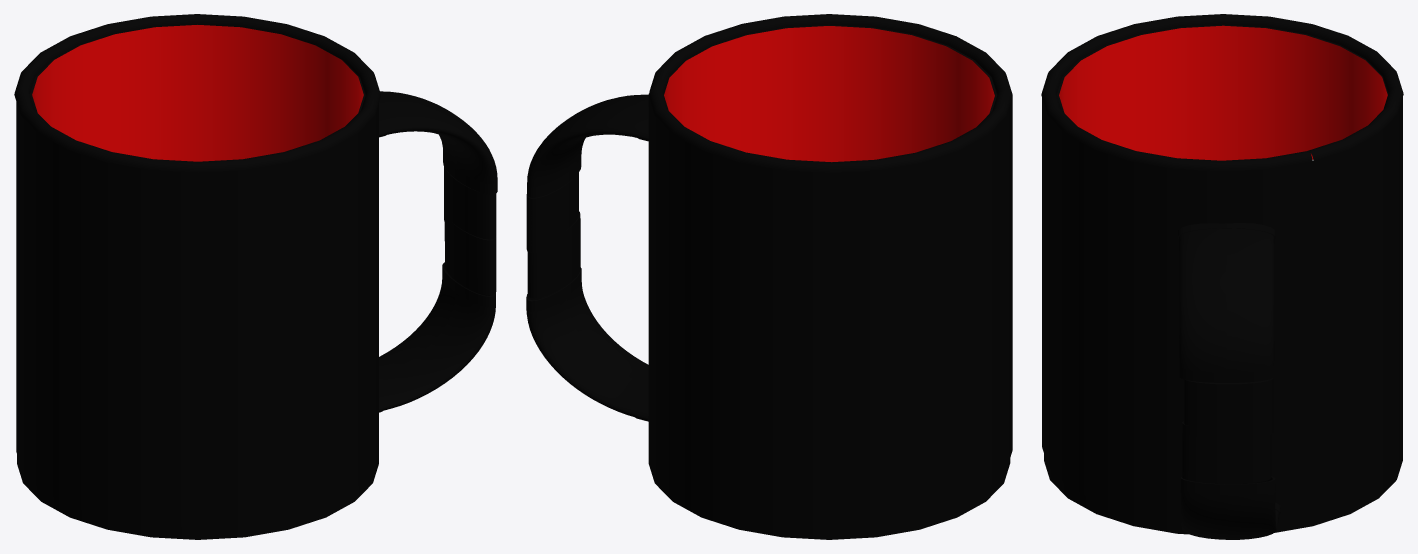
Rendered from mug_09_origin_gt_4.dae.
3 views of the same model, side by side, from view 1: azimuth 30°, elevation 25°; view 2: azimuth 150°, elevation 25°; view 3: azimuth 270°, elevation 25° (orthographic).
Visible parts, largest first — view 1: SketchUp (×2), ASTMF758_90_8_X_36R (×4), Handle_section_1 (×2); view 2: SketchUp (×2), ASTMF758_90_8_X_36R (×4), Handle_section_1 (×2); view 3: SketchUp (×2), ASTMF758_90_8_X_36R (×8), Handle_section_1 (×2).
Part boxes in pixels (x1,y1,x2,y2): SketchUp (×2): [14, 14, 380, 539]; ASTMF758_90_8_X_36R (×4): [379, 91, 497, 410]; Handle_section_1 (×2): [444, 167, 496, 295]; SketchUp (×2): [648, 14, 1012, 539]; ASTMF758_90_8_X_36R (×4): [526, 94, 648, 417]; Handle_section_1 (×2): [526, 172, 580, 298]; SketchUp (×2): [1041, 14, 1403, 534]; ASTMF758_90_8_X_36R (×8): [1179, 228, 1278, 539]; Handle_section_1 (×2): [1181, 378, 1273, 483].
Size of the model in its own units: 4.27 by 3.03 by 3.43.
